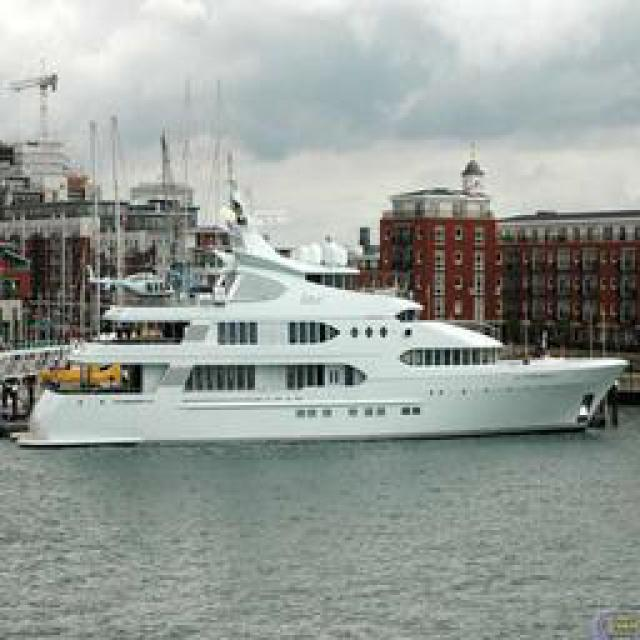Ship: (15, 160, 630, 453)
